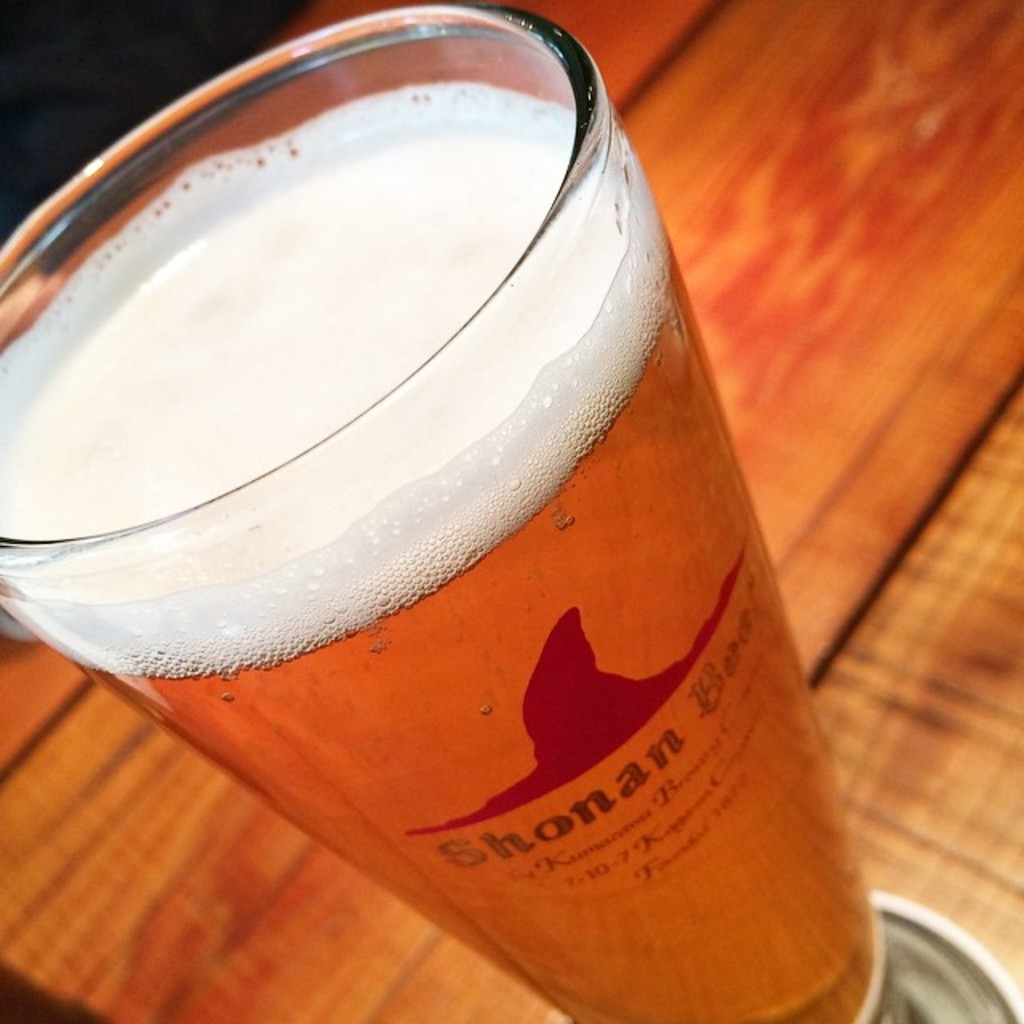Beer: (0, 80, 881, 1022)
